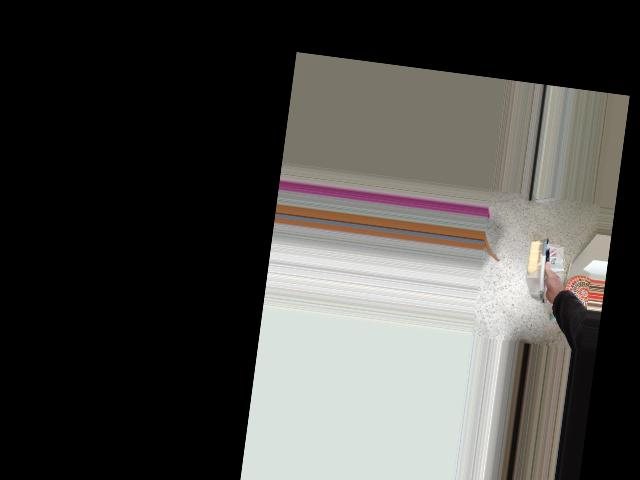cheese: (505, 239, 580, 317)
